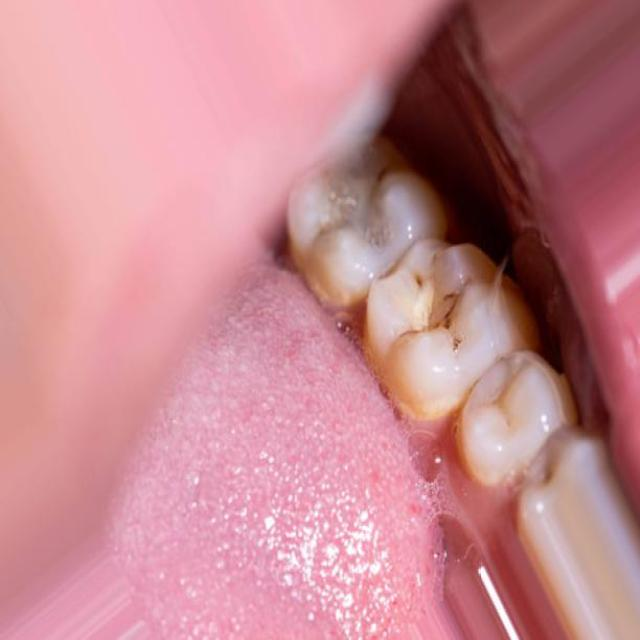caries: (384, 254, 482, 370)
